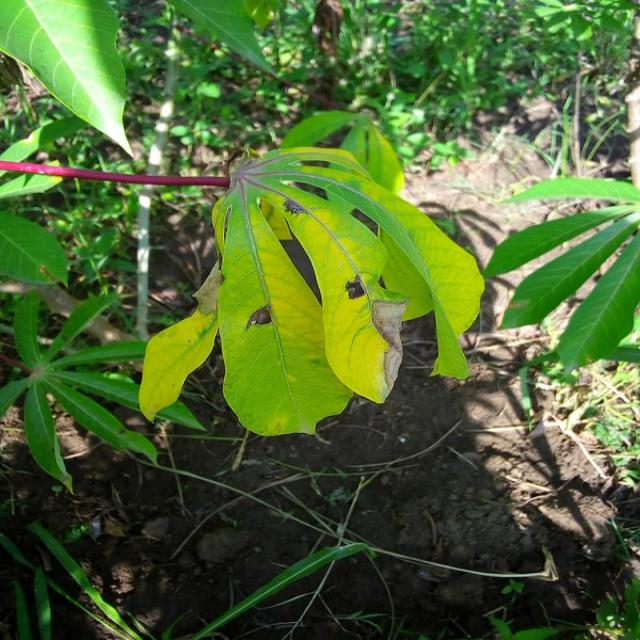cassava leaf: (138, 140, 484, 438), (0, 0, 134, 159)
